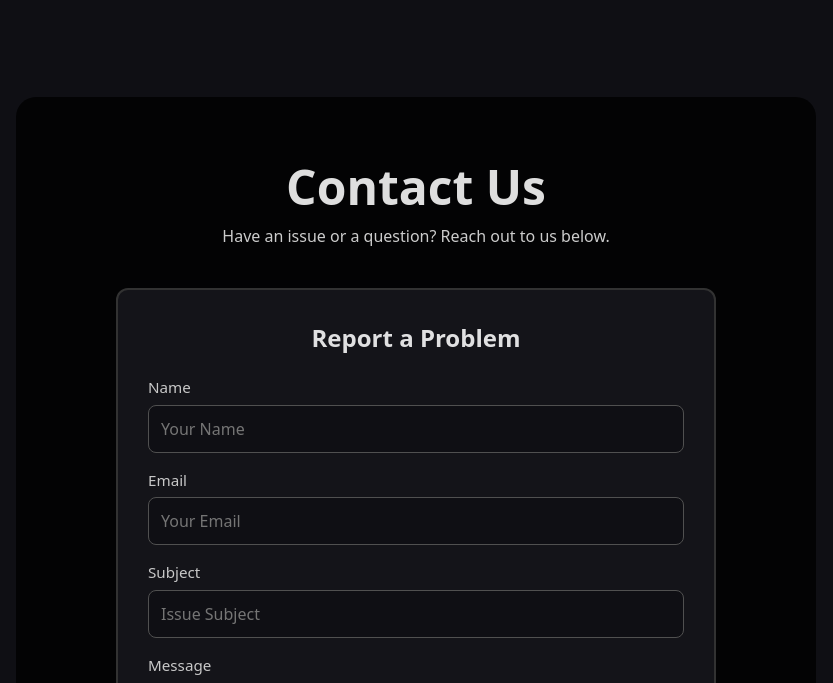
Test case: Contact (Supabase) › shows an error message if Supabase insert fails
Type "Test" into the field labelled "Name" at coordinates (416, 429), box [148,405,684,453]
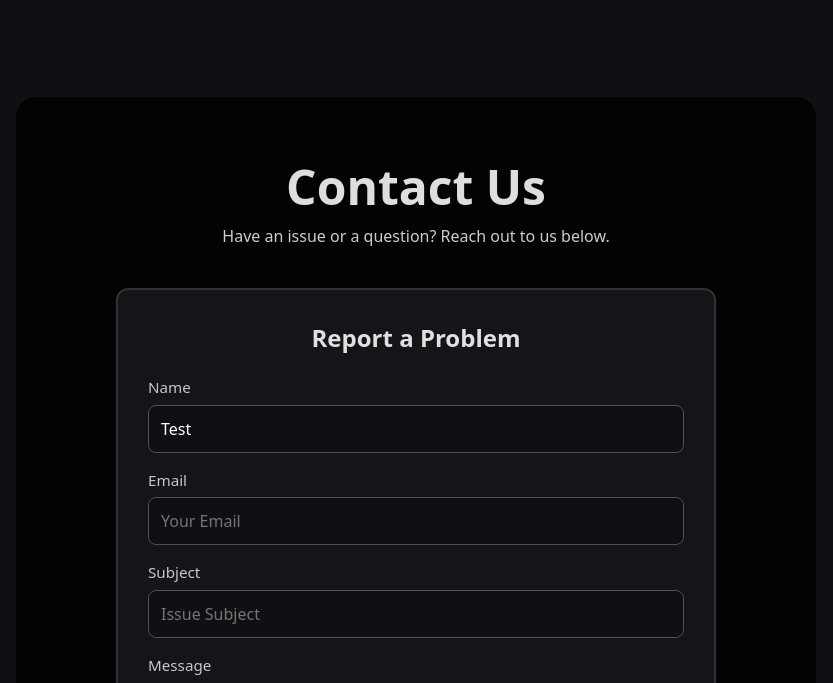
Type "t@t.com" into the field labelled "Email" at coordinates (416, 521), box [148,497,684,545]
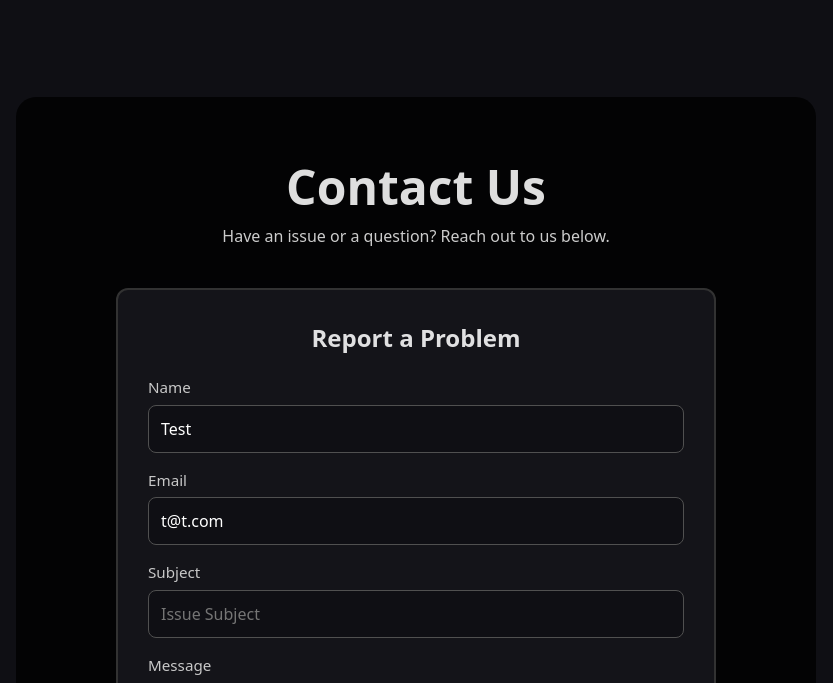
Type "Test" into the field labelled "Subject" at coordinates (416, 614), box [148,590,684,638]
(page scrolled)
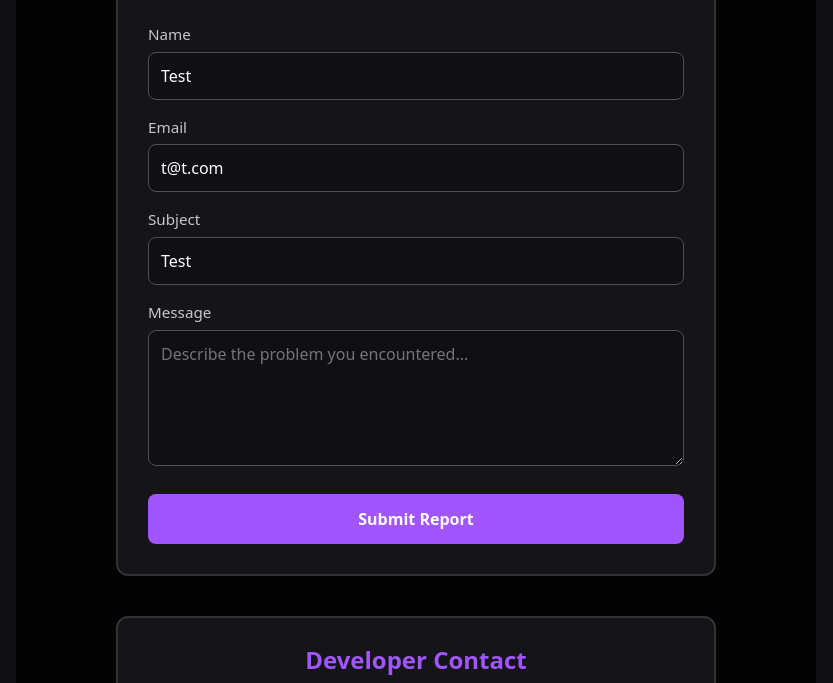
Type "Test" into the text box labelled "Message" at coordinates (416, 398), box [148,330,684,466]
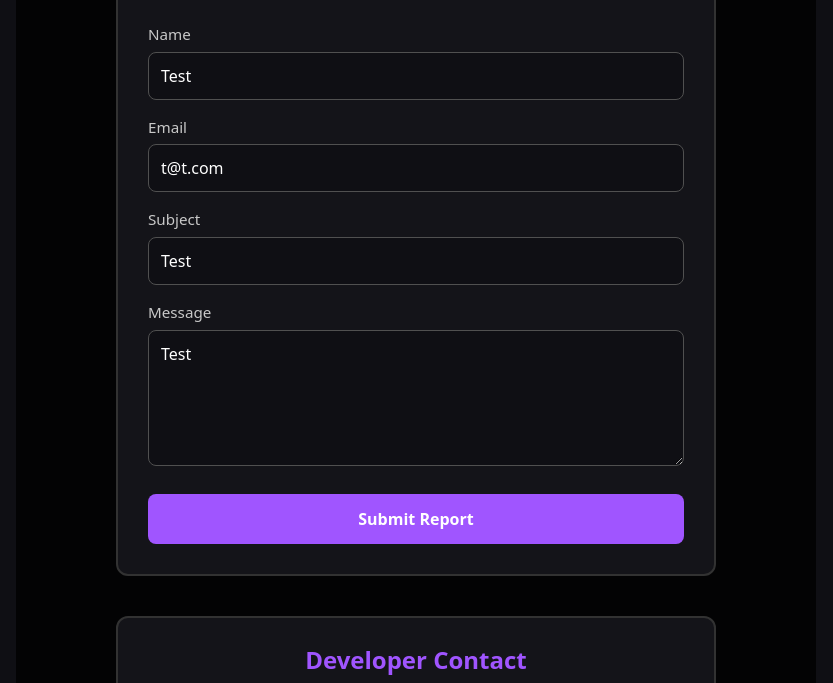
Click the button "Submit Report" at coordinates (416, 519), box [148,494,684,544]
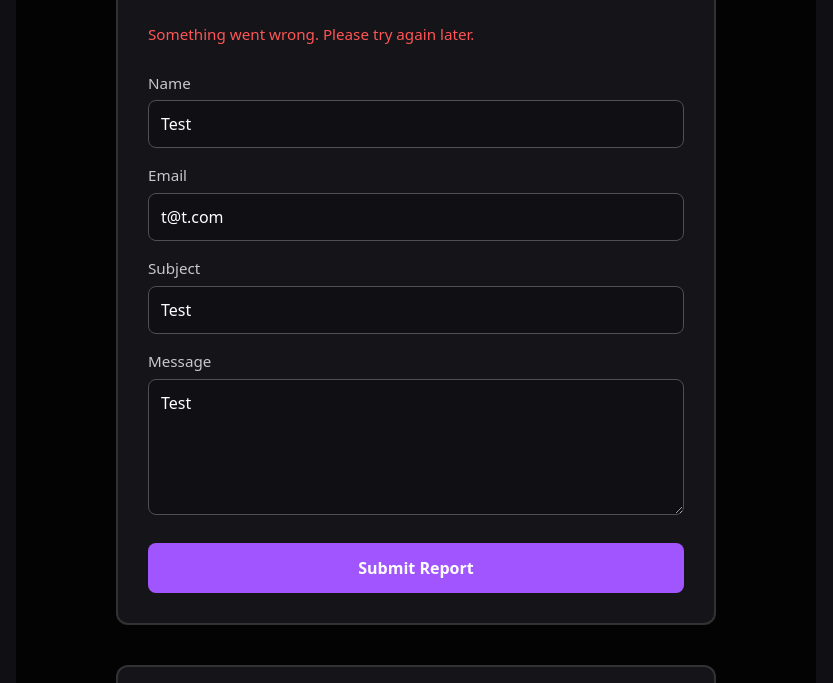
expect the text "Something went wrong. Please try again later." is shown: met, box [148,24,474,44]
